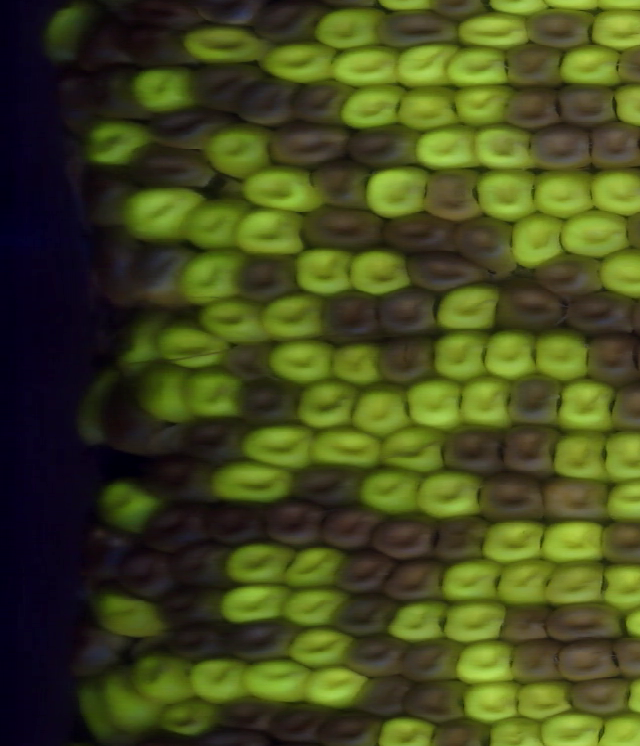fluorescent: (113, 180, 214, 250), (90, 663, 174, 738), (199, 117, 281, 188), (172, 244, 256, 313), (235, 160, 331, 220), (83, 582, 172, 645), (223, 200, 311, 261), (177, 17, 273, 72), (128, 360, 201, 432), (87, 475, 172, 536), (344, 378, 423, 443), (399, 370, 475, 436), (192, 292, 275, 352), (451, 369, 521, 439), (109, 310, 177, 381), (173, 194, 256, 252), (205, 454, 297, 506), (408, 465, 489, 524), (546, 423, 621, 486), (551, 376, 623, 441), (68, 366, 121, 454), (359, 161, 437, 220), (263, 331, 342, 389), (374, 422, 453, 480), (78, 111, 154, 171), (449, 633, 527, 691), (238, 420, 323, 473), (238, 655, 318, 711), (529, 164, 602, 225), (291, 374, 364, 435), (130, 649, 203, 710), (334, 78, 412, 135), (152, 320, 237, 372), (222, 537, 305, 590), (343, 240, 417, 299), (558, 207, 634, 264), (473, 162, 544, 223), (178, 365, 250, 425), (409, 120, 483, 178), (466, 117, 540, 175), (353, 463, 428, 520), (524, 324, 594, 385), (475, 514, 552, 569), (253, 40, 341, 88), (255, 289, 329, 346), (441, 41, 522, 93), (68, 675, 127, 746), (479, 323, 546, 385), (290, 242, 362, 299), (184, 653, 259, 707), (302, 424, 388, 471), (506, 206, 568, 271), (554, 40, 630, 93), (300, 662, 376, 715), (448, 80, 521, 135), (126, 62, 200, 116), (283, 620, 361, 671), (432, 278, 498, 338), (426, 326, 493, 385), (436, 553, 509, 607), (393, 82, 467, 135), (310, 3, 390, 52), (275, 540, 353, 590), (436, 594, 511, 646), (454, 8, 536, 55), (326, 41, 404, 90), (279, 583, 357, 631), (37, 1, 95, 65), (492, 555, 562, 608), (534, 516, 608, 566), (213, 582, 295, 626), (541, 558, 613, 608), (392, 40, 463, 90), (508, 675, 583, 722), (383, 597, 453, 647), (327, 341, 392, 392), (584, 163, 640, 220), (460, 678, 528, 724), (153, 697, 224, 741), (531, 707, 610, 746), (591, 244, 640, 303), (598, 425, 640, 488), (484, 710, 557, 746), (372, 711, 447, 746), (589, 558, 640, 608), (587, 4, 640, 52), (601, 472, 640, 527), (589, 705, 640, 746), (607, 79, 640, 130)
nonfluorescent: (101, 369, 173, 462), (117, 445, 217, 506), (123, 139, 221, 197), (74, 57, 156, 126), (293, 199, 391, 255), (142, 98, 235, 157), (65, 519, 137, 595), (449, 209, 522, 279), (42, 58, 108, 135), (401, 243, 494, 296), (263, 117, 354, 171), (73, 156, 137, 232), (260, 491, 332, 557), (474, 467, 553, 527), (287, 459, 375, 512), (225, 372, 304, 431), (538, 599, 636, 646), (494, 420, 567, 483), (185, 58, 264, 116), (57, 624, 136, 682), (342, 119, 423, 175), (537, 474, 618, 530), (166, 411, 256, 461), (315, 283, 384, 348), (495, 367, 568, 428), (495, 279, 567, 340), (494, 81, 568, 139), (370, 280, 444, 338), (562, 287, 640, 342), (392, 631, 475, 682), (111, 541, 179, 603), (135, 499, 213, 553), (223, 612, 304, 664), (301, 156, 372, 215), (246, 1, 337, 47), (554, 75, 625, 133), (574, 328, 640, 390), (283, 74, 356, 130), (199, 494, 273, 549), (552, 631, 626, 686), (371, 6, 463, 50), (160, 614, 236, 667), (419, 165, 487, 224), (370, 330, 438, 389), (528, 118, 598, 175), (230, 76, 301, 132), (559, 672, 640, 721), (435, 415, 503, 473), (366, 511, 443, 562), (314, 498, 388, 551), (377, 209, 457, 258), (330, 547, 401, 602), (325, 589, 401, 639), (377, 555, 451, 606), (69, 19, 136, 75), (531, 250, 604, 301), (345, 672, 422, 720), (338, 632, 415, 679), (398, 671, 466, 724), (265, 693, 333, 746), (170, 538, 238, 591), (520, 7, 600, 51), (152, 578, 230, 623), (211, 693, 289, 737), (429, 509, 492, 563), (312, 703, 389, 746), (582, 118, 640, 175), (499, 637, 564, 686), (505, 39, 565, 92), (122, 30, 197, 70), (221, 336, 281, 386), (493, 598, 556, 645), (129, 1, 207, 33), (598, 515, 640, 573), (606, 373, 640, 440), (185, 1, 266, 29), (426, 715, 496, 746), (199, 720, 279, 746), (605, 632, 640, 683), (423, 1, 496, 22)
